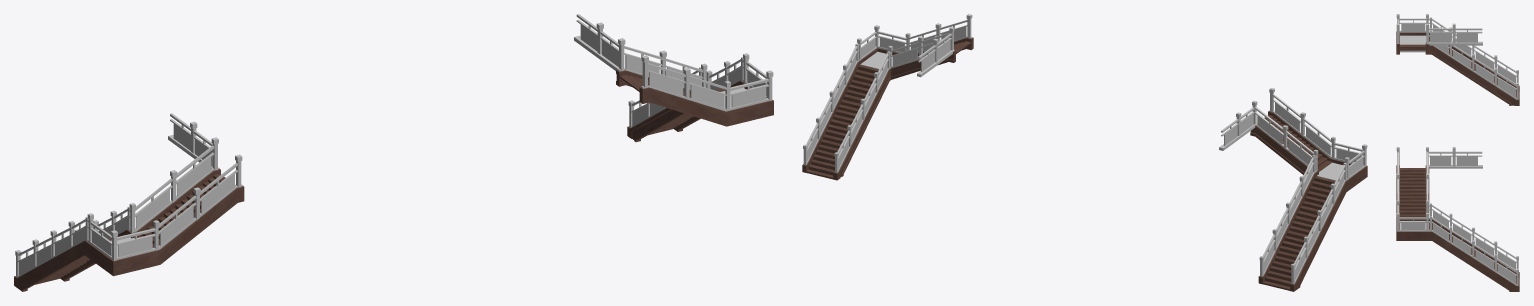
File: Homeworld_Interior_Ly_Room_P_Stair_Vo.fbx
3 views of the same model, side by side, from view 1: azimuth 30°, elevation 25°; view 2: azimuth 150°, elevation 25°; view 3: azimuth 270°, elevation 25° (orthographic). The views are drawn at different scales.
Parts seen in each view (by area): view 1: Homeworld_Interior_Ly_Room_P_Stair_01_Vo, Homeworld_Interior_Ly_Room_P_Stair_01_01_Vo; view 2: Homeworld_Interior_Ly_Room_P_Stair_01_Vo, Homeworld_Interior_Ly_Room_P_Stair_01_01_Vo; view 3: Homeworld_Interior_Ly_Room_P_Stair_01_01_Vo, Homeworld_Interior_Ly_Room_P_Stair_01_Vo.
Boxes of the visible parts, x1=… form: Homeworld_Interior_Ly_Room_P_Stair_01_Vo: x1=14, y1=113, x2=244, y2=291; Homeworld_Interior_Ly_Room_P_Stair_01_01_Vo: x1=574, y1=14, x2=773, y2=142; Homeworld_Interior_Ly_Room_P_Stair_01_Vo: x1=1219, y1=88, x2=1367, y2=291; Homeworld_Interior_Ly_Room_P_Stair_01_01_Vo: x1=802, y1=14, x2=973, y2=180; Homeworld_Interior_Ly_Room_P_Stair_01_01_Vo: x1=1396, y1=147, x2=1519, y2=291; Homeworld_Interior_Ly_Room_P_Stair_01_Vo: x1=1396, y1=14, x2=1519, y2=105.
Size of the model in its own units: 24.47 by 6.03 by 6.37.
